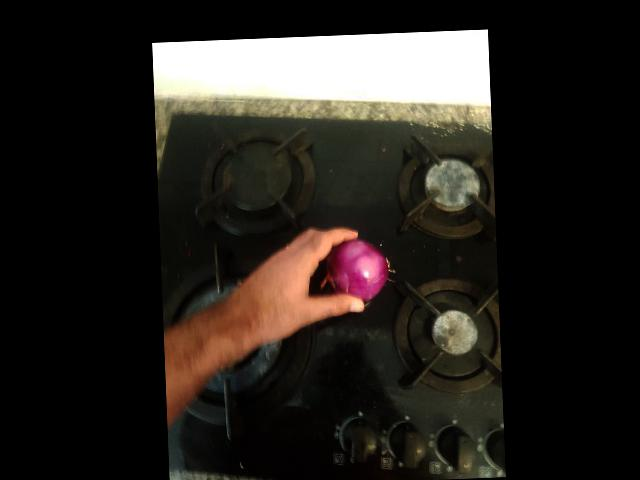onion: (359, 147, 439, 215)
